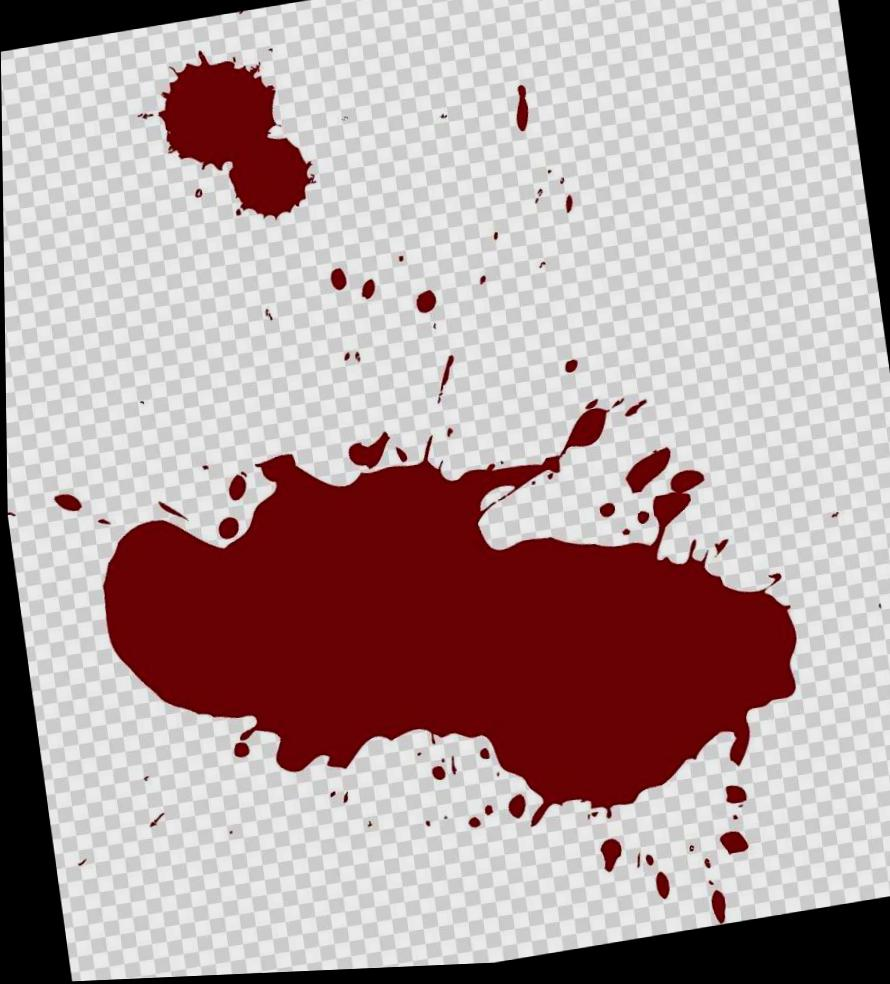Fire: (100, 404, 794, 832), (157, 52, 315, 223)
